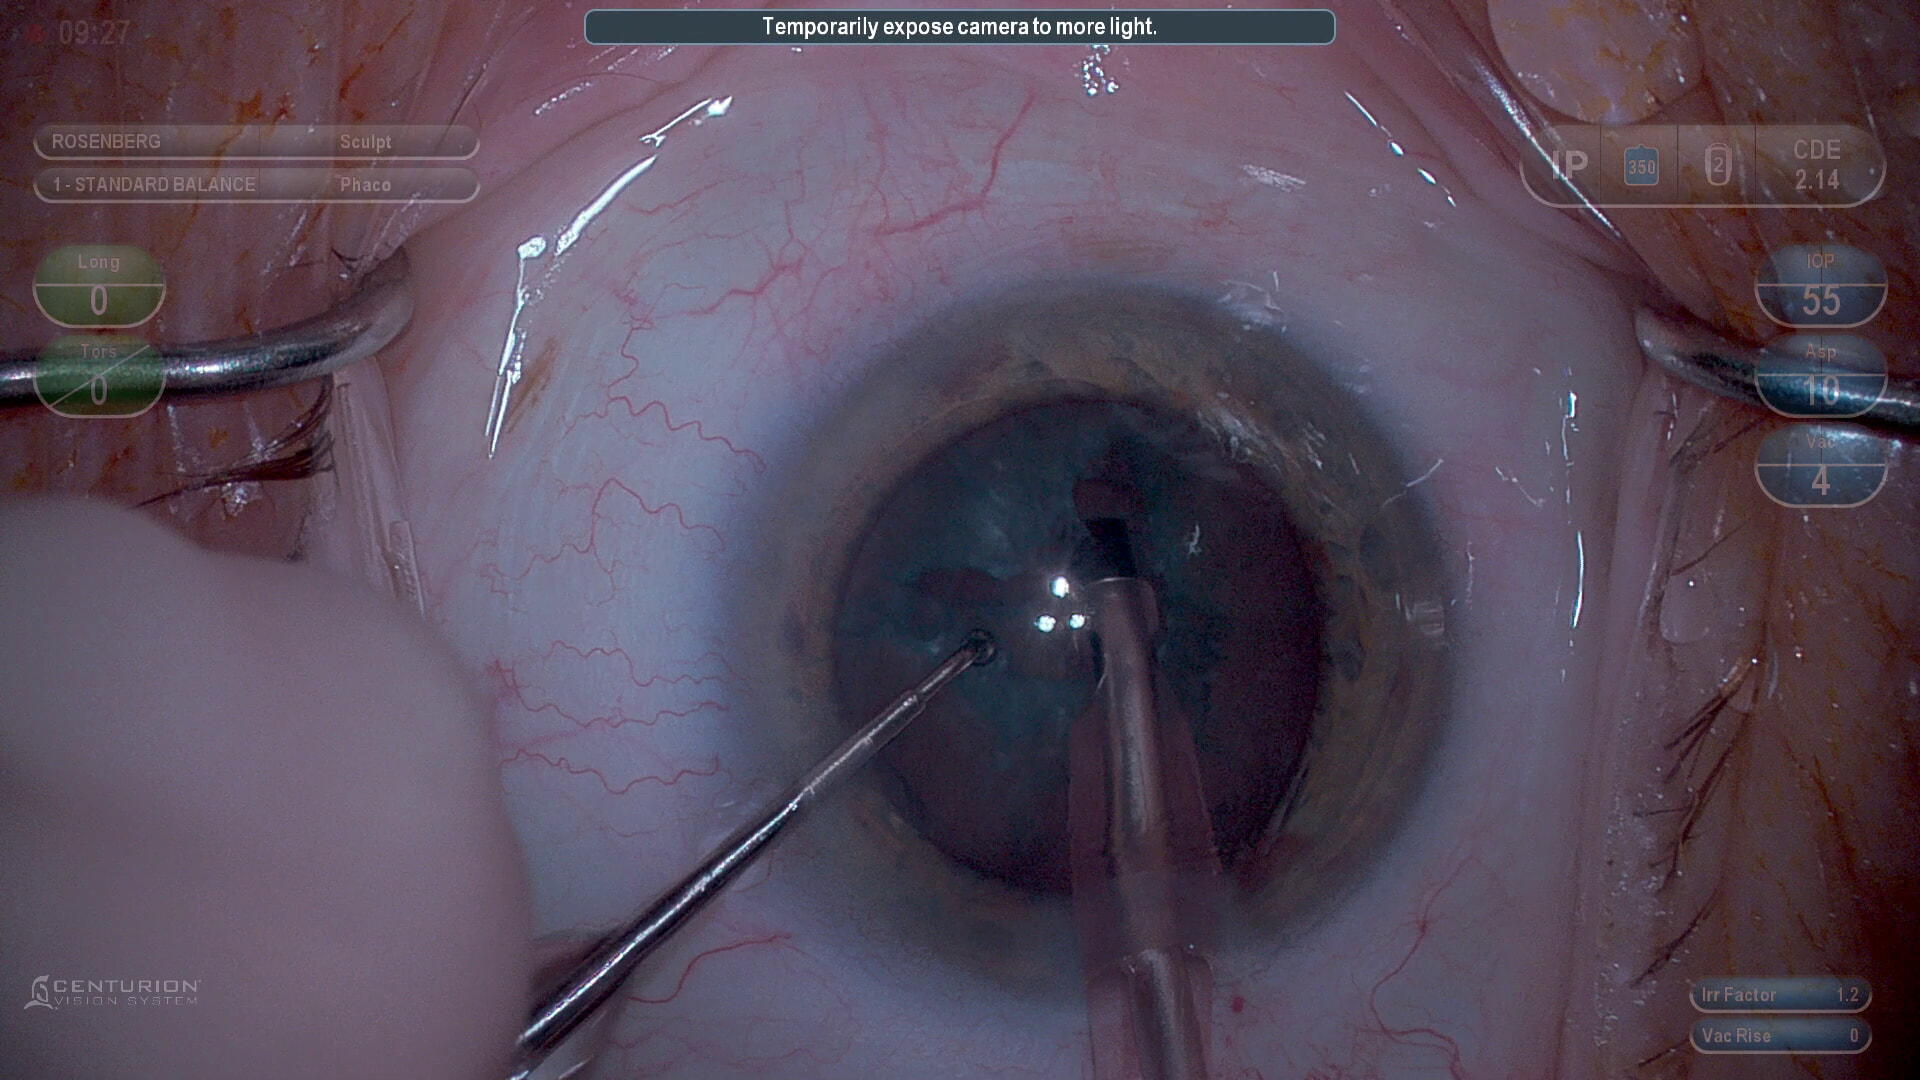iris: (760, 300, 1442, 978)
pupil: (828, 390, 1330, 889)
